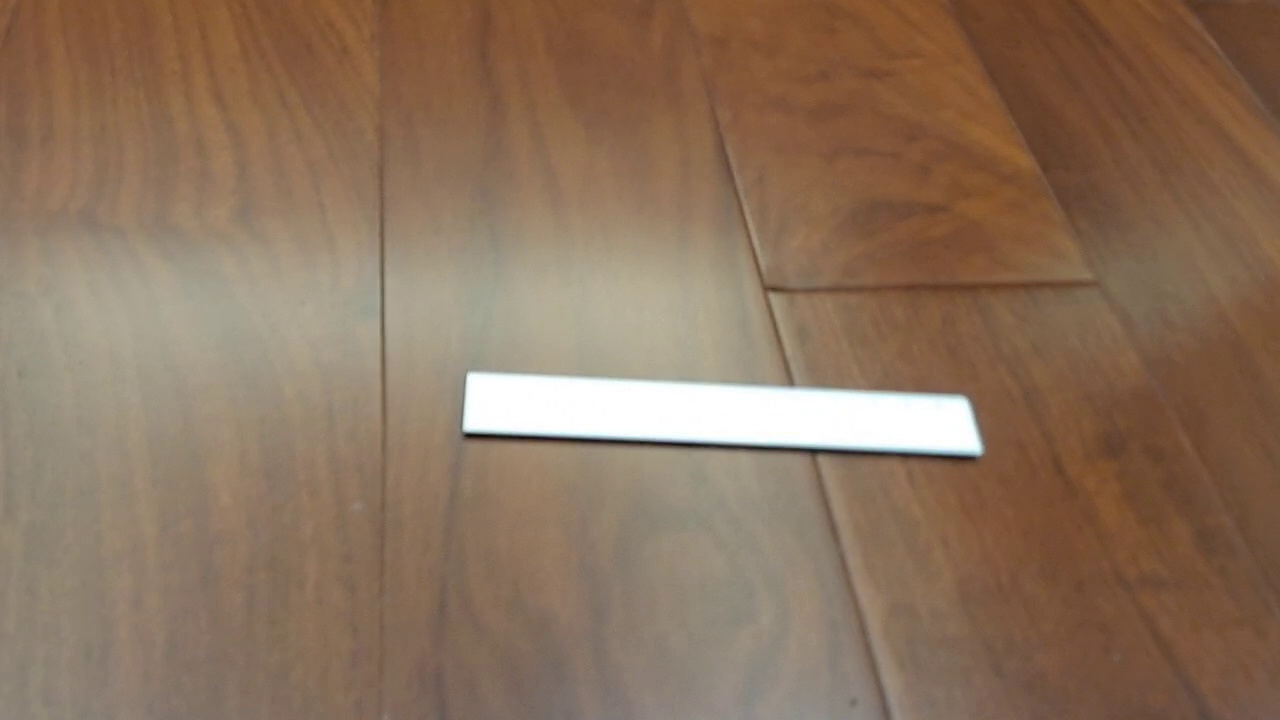ruler: (460, 368, 988, 462)
